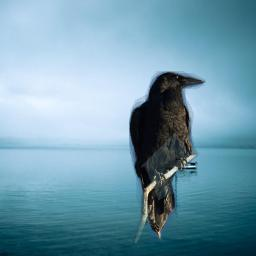Crow: (129, 71, 206, 243)
